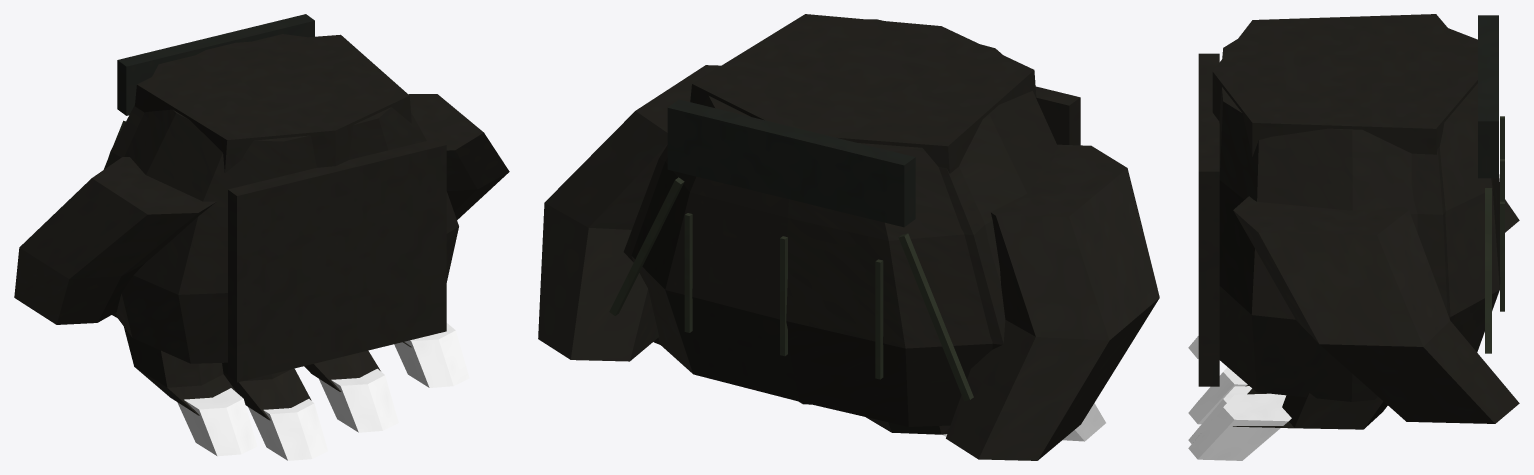
The model's file is gloves_fingerless.glb.
3 renders of one model, left to right at view 1: azimuth 30°, elevation 25°; view 2: azimuth 150°, elevation 25°; view 3: azimuth 270°, elevation 25°, orthographic. The views are drawn at different scales.
Visible parts, largest first — view 1: gloves_fingerless_foreL_LOD0_RAID_leather.001, gloves_fingerless_foreR_LOD0_RAID_leather.001, gloves_fingerless_foreL_LOD1_RAID_leather.001, gloves_fingerless_foreL_LOD0_RAID_skin.001, gloves_fingerless_foreL_LOD0_RAID_rubber.002, gloves_fingerless_foreL_LOD1_RAID_rubber.002; view 2: gloves_fingerless_foreL_LOD0_RAID_leather.001, gloves_fingerless_foreR_LOD0_RAID_leather.001, gloves_fingerless_foreL_LOD0_RAID_rubber.002, gloves_fingerless_foreL_LOD1_RAID_rubber.002, gloves_fingerless_foreL_LOD1_RAID_leather.001, gloves_fingerless_foreL_LOD0_RAID_seam.002, gloves_fingerless_foreR_LOD0_RAID_seam.002, gloves_fingerless_foreL_LOD0_RAID_skin.001; view 3: gloves_fingerless_foreL_LOD0_RAID_leather.001, gloves_fingerless_foreL_LOD1_RAID_leather.001, gloves_fingerless_foreL_LOD0_RAID_skin.001, gloves_fingerless_foreL_LOD0_RAID_rubber.002, gloves_fingerless_foreL_LOD1_RAID_rubber.002, gloves_fingerless_foreL_LOD0_RAID_seam.002.
Part boxes in pixels (x1=…): gloves_fingerless_foreL_LOD0_RAID_leather.001: x1=116, y1=34, x2=509, y2=420; gloves_fingerless_foreR_LOD0_RAID_leather.001: x1=14, y1=157, x2=216, y2=324; gloves_fingerless_foreL_LOD1_RAID_leather.001: x1=104, y1=105, x2=446, y2=382; gloves_fingerless_foreL_LOD0_RAID_skin.001: x1=177, y1=323, x2=469, y2=460; gloves_fingerless_foreL_LOD0_RAID_rubber.002: x1=117, y1=19, x2=314, y2=110; gloves_fingerless_foreL_LOD1_RAID_rubber.002: x1=117, y1=14, x2=314, y2=115; gloves_fingerless_foreL_LOD0_RAID_leather.001: x1=538, y1=14, x2=1080, y2=434; gloves_fingerless_foreR_LOD0_RAID_leather.001: x1=946, y1=144, x2=1159, y2=460; gloves_fingerless_foreL_LOD0_RAID_rubber.002: x1=667, y1=105, x2=915, y2=223; gloves_fingerless_foreL_LOD1_RAID_rubber.002: x1=667, y1=99, x2=915, y2=227; gloves_fingerless_foreL_LOD1_RAID_leather.001: x1=623, y1=86, x2=1080, y2=349; gloves_fingerless_foreL_LOD0_RAID_seam.002: x1=609, y1=177, x2=883, y2=379; gloves_fingerless_foreR_LOD0_RAID_seam.002: x1=898, y1=233, x2=973, y2=401; gloves_fingerless_foreL_LOD0_RAID_skin.001: x1=942, y1=403, x2=1105, y2=441; gloves_fingerless_foreL_LOD0_RAID_leather.001: x1=1198, y1=14, x2=1519, y2=429; gloves_fingerless_foreL_LOD1_RAID_leather.001: x1=1198, y1=53, x2=1450, y2=386; gloves_fingerless_foreL_LOD0_RAID_skin.001: x1=1188, y1=336, x2=1291, y2=460; gloves_fingerless_foreL_LOD0_RAID_rubber.002: x1=1478, y1=26, x2=1498, y2=170; gloves_fingerless_foreL_LOD1_RAID_rubber.002: x1=1478, y1=15, x2=1498, y2=178; gloves_fingerless_foreL_LOD0_RAID_seam.002: x1=1485, y1=116, x2=1504, y2=353.
Bounding box in the file's own units: 0.1719 × 0.115 × 0.095.
4 materials, 4 textured.
